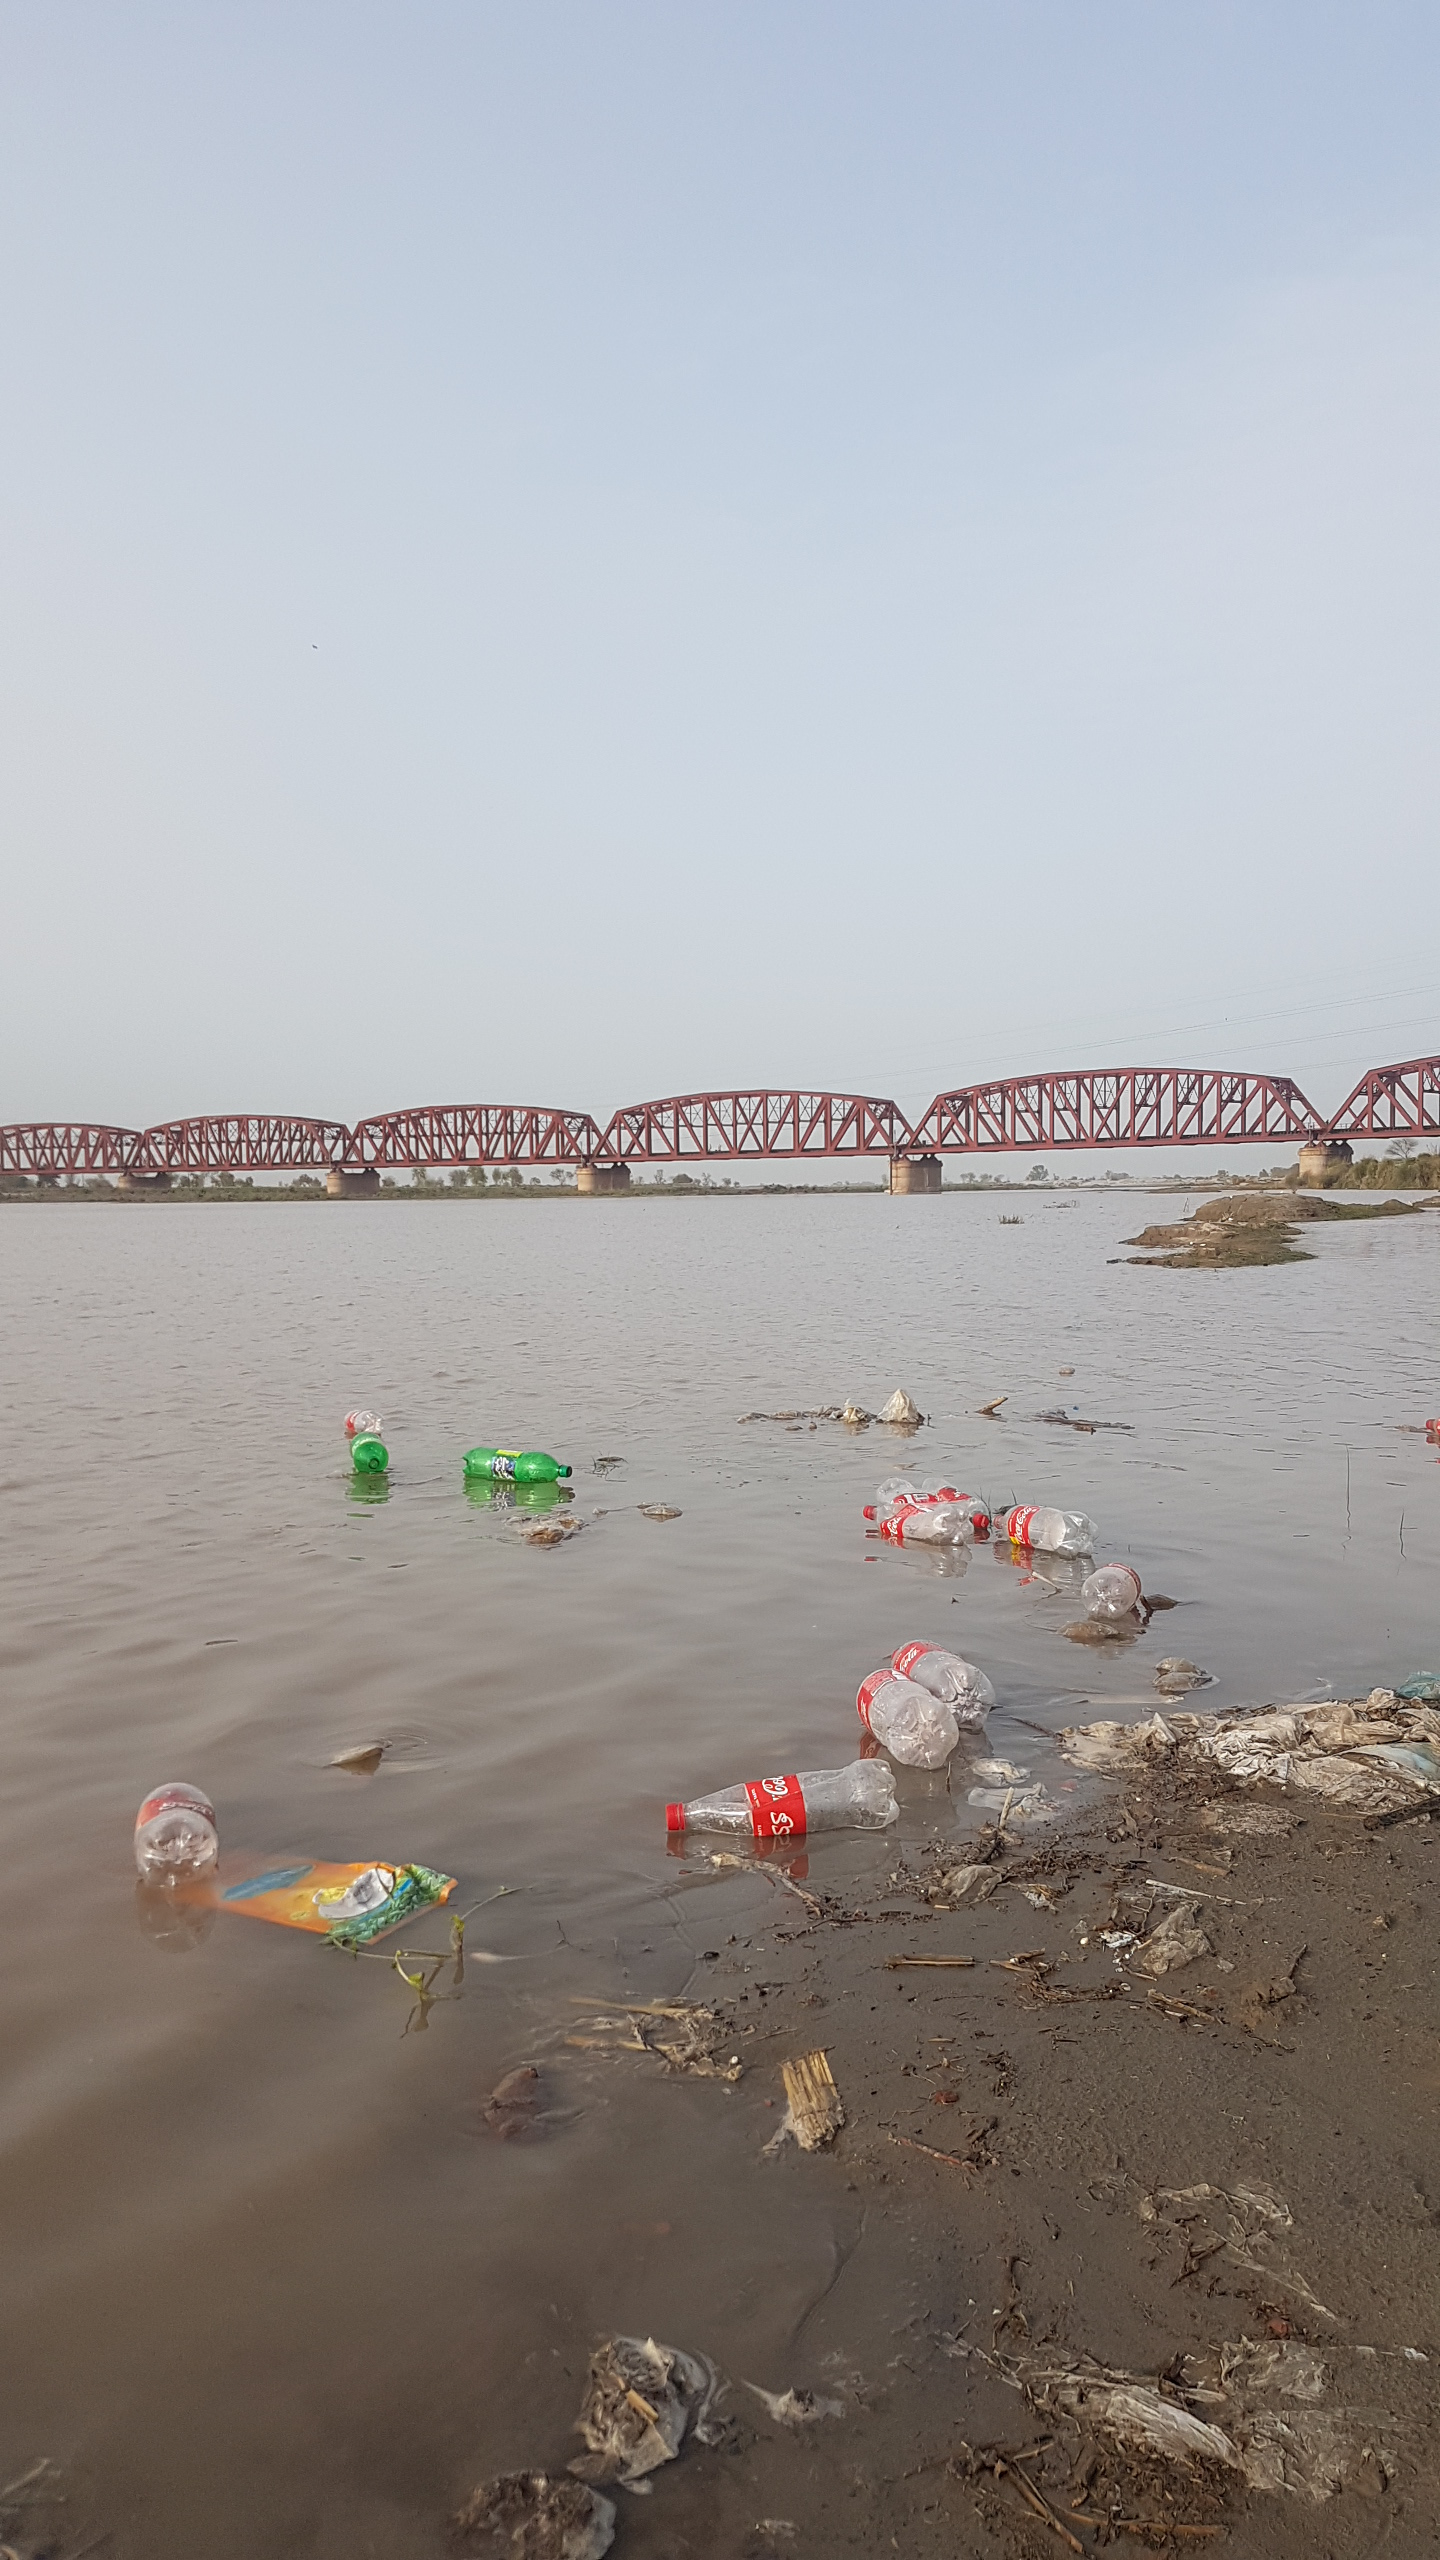Plastic Bottle: (666, 1758, 898, 1836), (855, 1669, 958, 1769), (891, 1639, 993, 1732), (132, 1781, 220, 1888), (995, 1505, 1101, 1558), (863, 1503, 972, 1545), (462, 1447, 573, 1482), (921, 1479, 992, 1530), (1081, 1561, 1141, 1619), (876, 1477, 942, 1507), (350, 1431, 390, 1473), (345, 1410, 383, 1433), (1426, 1417, 1440, 1440)
